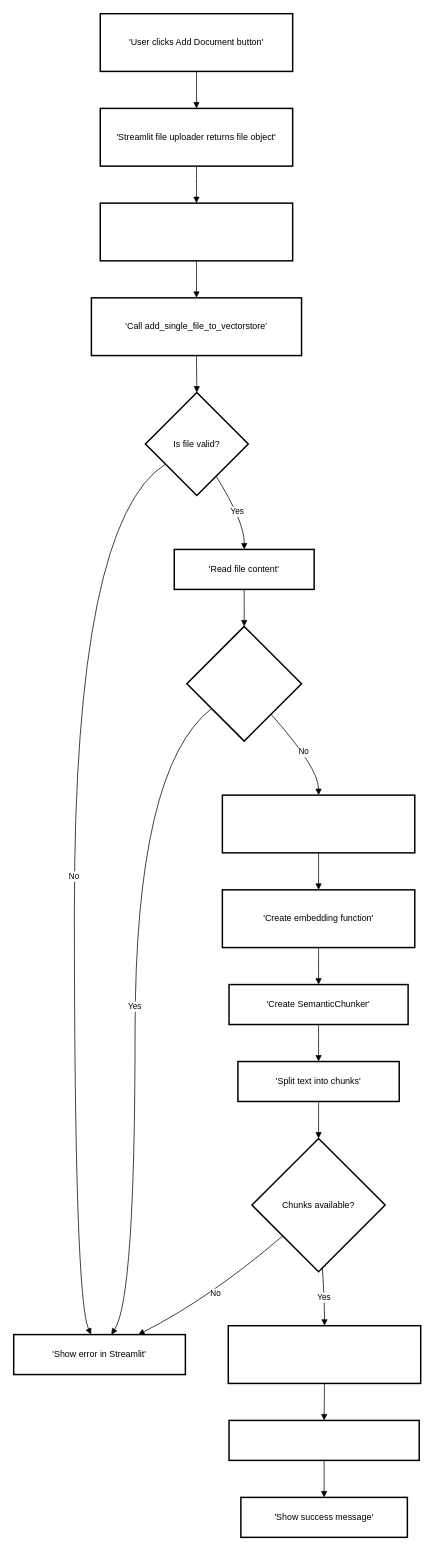
Some shapes in this 434 by 1550 pixel diagram are drawn without their labels. Here are the shapes that lost their labels. From the top down, the centre of each, then its label:
At pixel 196 231: "'Save uploaded file to Docs/Documentation'".
At pixel 244 683: "Is text empty?".
At pixel 318 823: "'Load local embedding model'".
At pixel 324 1354: "'Load or create vector store'".
At pixel 324 1440: "'Add chunks to vector store'".
